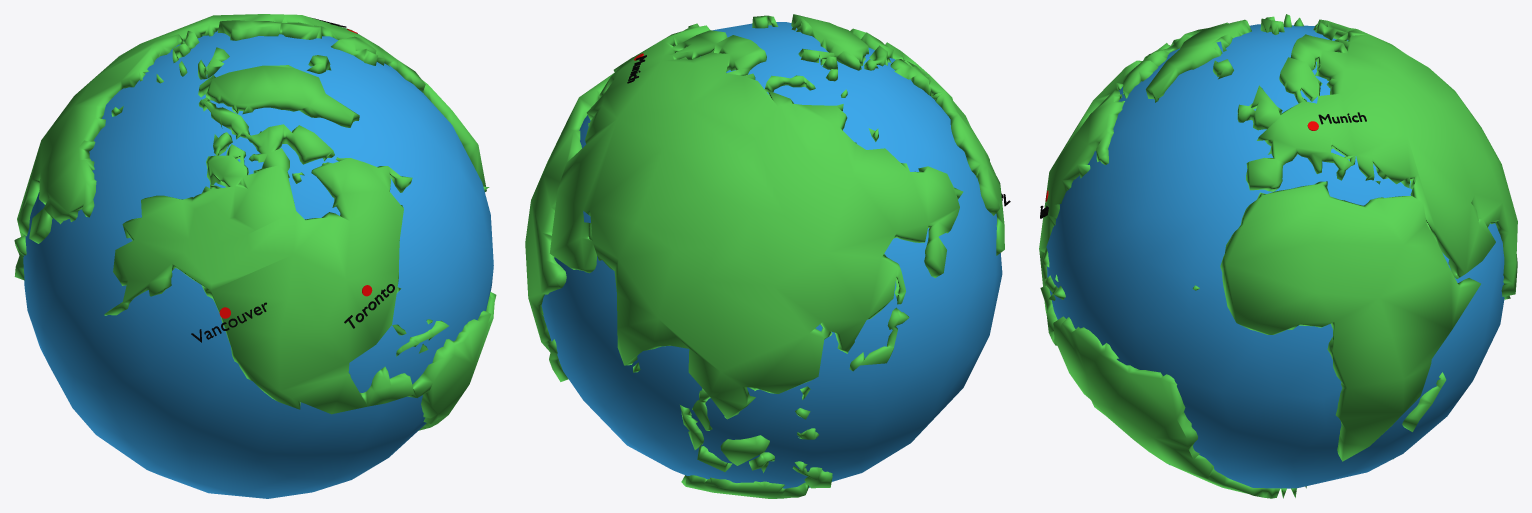
File: earth.gltf
The picture shows the model from 3 angles, left to right: view 1: azimuth 30°, elevation 25°; view 2: azimuth 150°, elevation 25°; view 3: azimuth 270°, elevation 25°; orthographic projection.
Parts seen in each view (by area): view 1: low_poly_earth; view 2: low_poly_earth; view 3: low_poly_earth.
Part boxes in pixels (x1,y1,x2,y2): low_poly_earth: (14, 14, 496, 498); low_poly_earth: (525, 14, 1004, 498); low_poly_earth: (1039, 14, 1517, 498).
Bounding box in the file's own units: 1.95 × 2.01 × 1.99.
